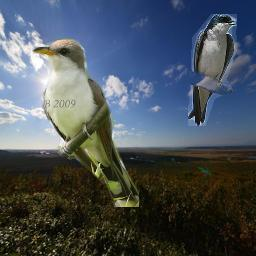Cuckoo: (32, 37, 139, 207)
Swallow: (188, 14, 237, 126)
